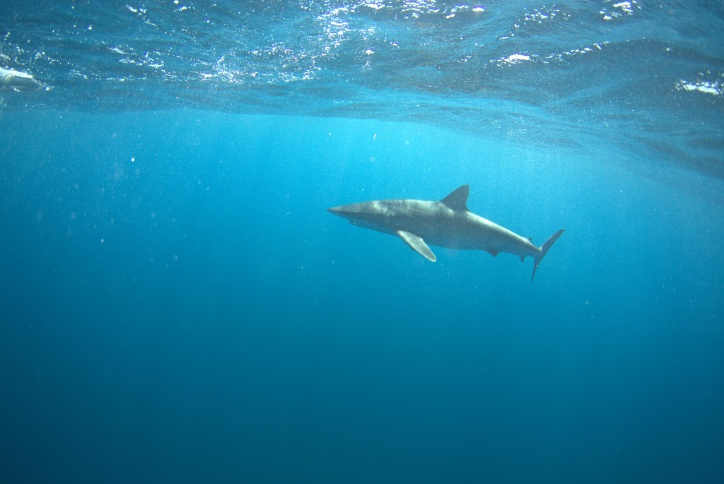Sedoso: (307, 171, 569, 288)
